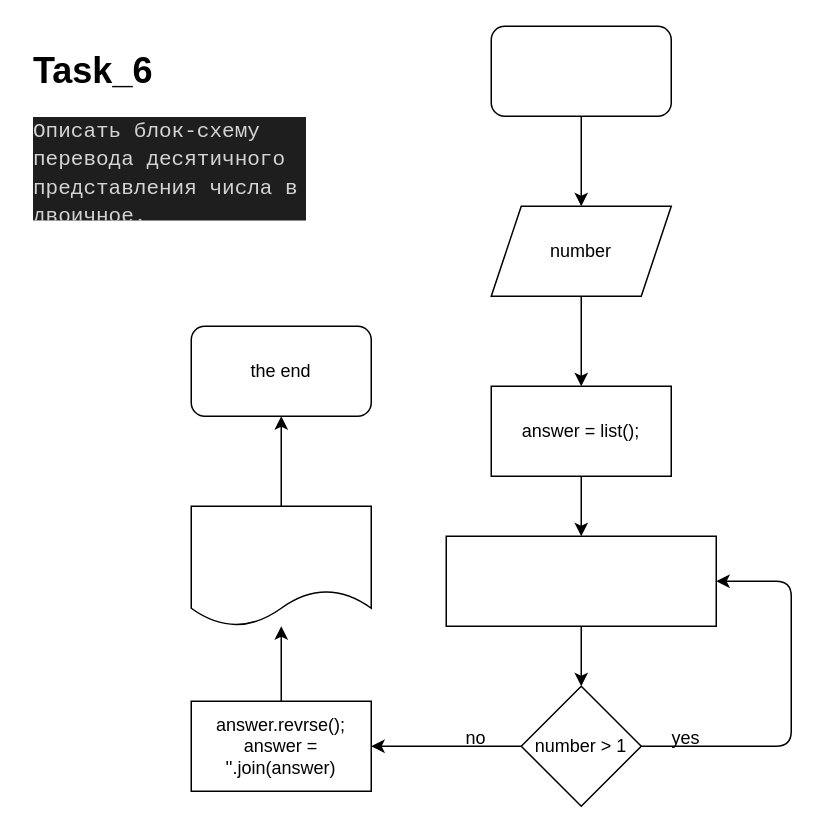
The diagram is 830 pixels wide and 833 high, and some of its shapes have lost their labels. Each missing label, with the centre of its shape:
"answer" goes at point 280,565.
"number = number // 2; answer.append(str(number % 2));" goes at point 580,580.
"start" goes at point 580,70.
